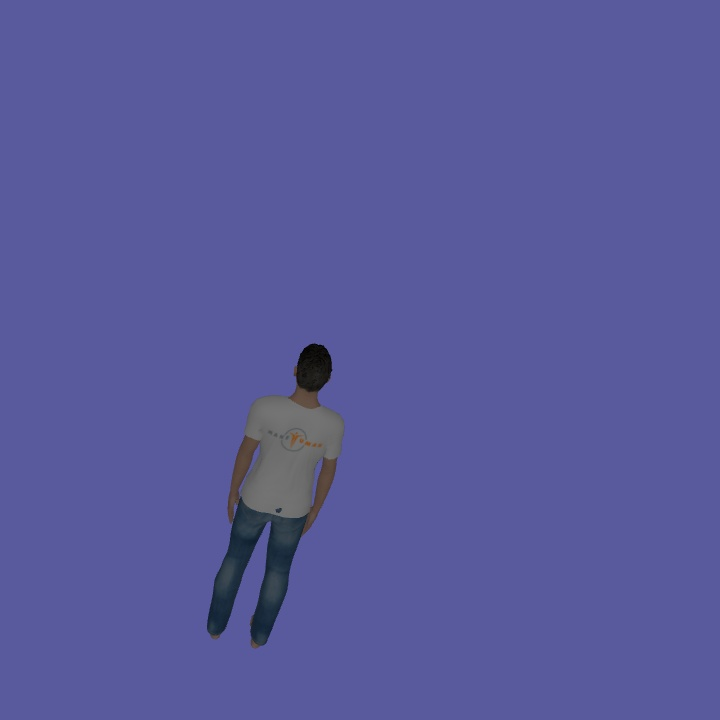victim: (200, 339, 348, 648)
